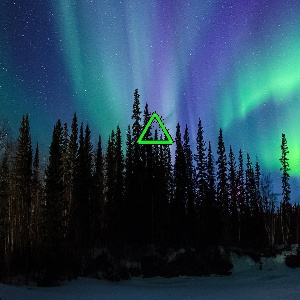triangle: (134, 111, 175, 147)
